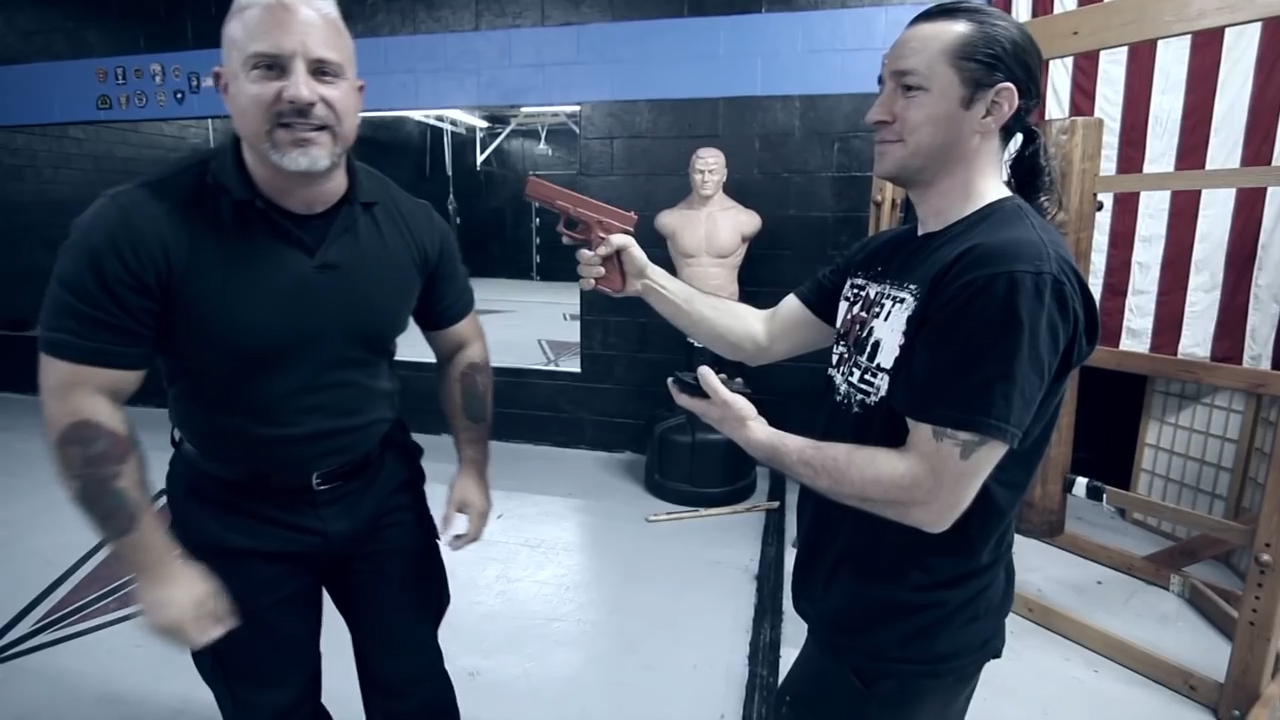pistol: (519, 173, 640, 295)
